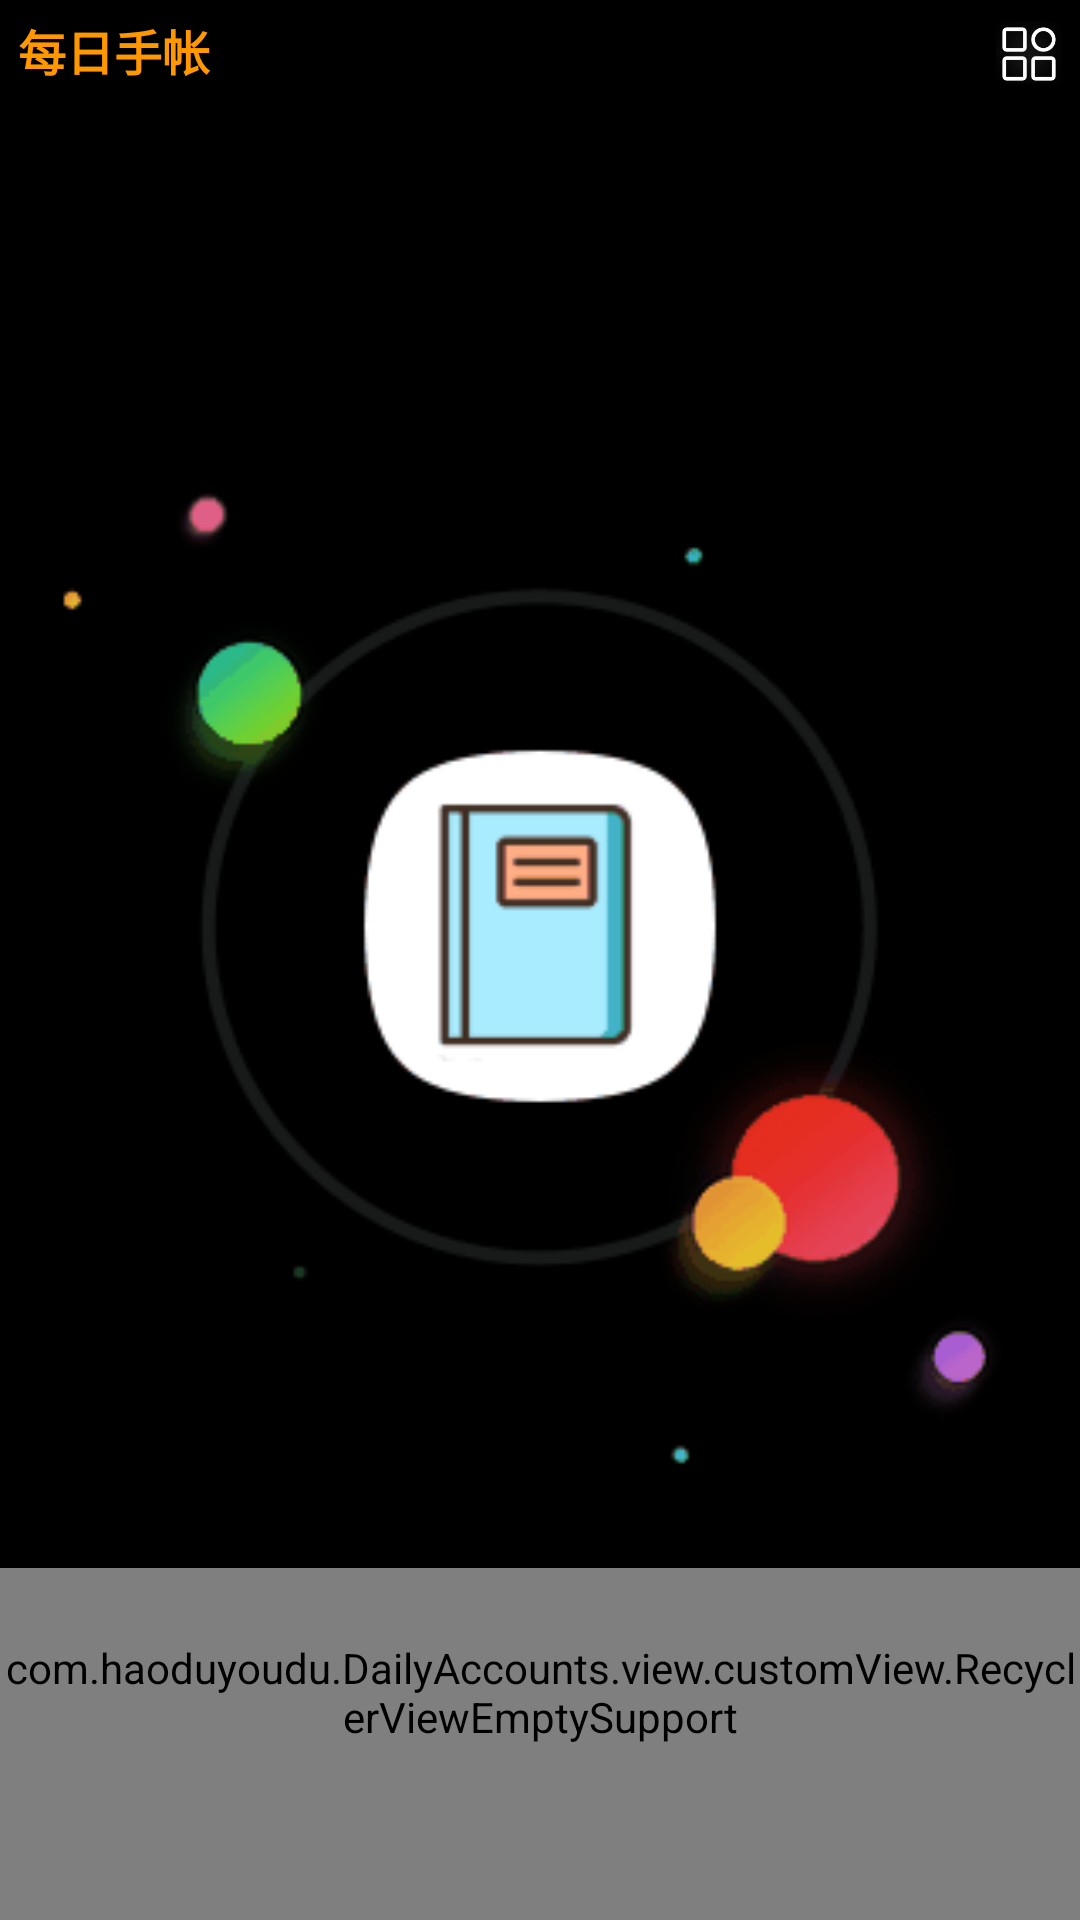

Locate icon controls on the screen. Image size 1080×1920, boxes as (x1, y1, x2, y2).
menu: (1002, 27, 1056, 81)
